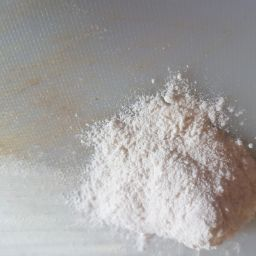Plain flour: (47, 102, 209, 252), (121, 64, 256, 242), (127, 111, 251, 236)
